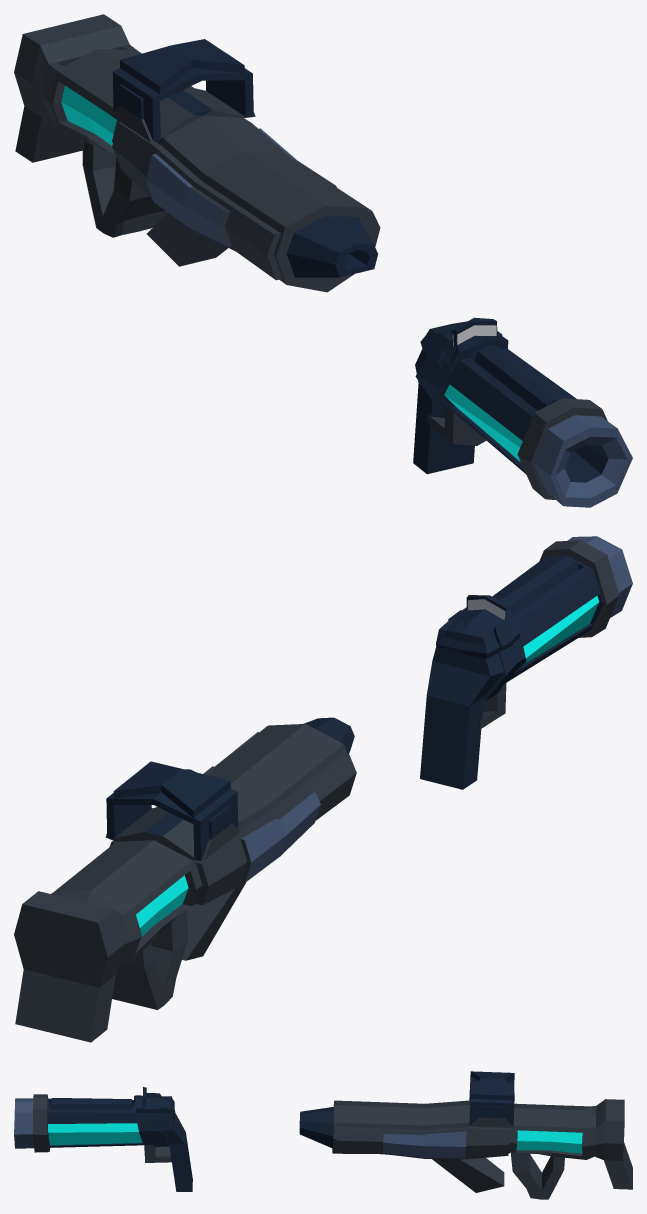
Rendered from Weapons.glb.
3 renders of one model, top to bottom at view 1: azimuth 30°, elevation 25°; view 2: azimuth 150°, elevation 25°; view 3: azimuth 270°, elevation 25°, orthographic. The views are drawn at different scales.
Parts seen in each view (by area): view 1: Arma B, Arma A; view 2: Arma B, Arma A; view 3: Arma B, Arma A.
Boxes of the visible parts, x1=… form: Arma B: x1=14, y1=14, x2=380, y2=292; Arma A: x1=413, y1=317, x2=632, y2=507; Arma B: x1=14, y1=717, x2=356, y2=1042; Arma A: x1=420, y1=536, x2=632, y2=789; Arma B: x1=299, y1=1071, x2=632, y2=1199; Arma A: x1=14, y1=1087, x2=192, y2=1191.
Size of the model in its own units: 0.7704 by 1.19 by 5.91.
Materials: 2 (1 with a texture image).
